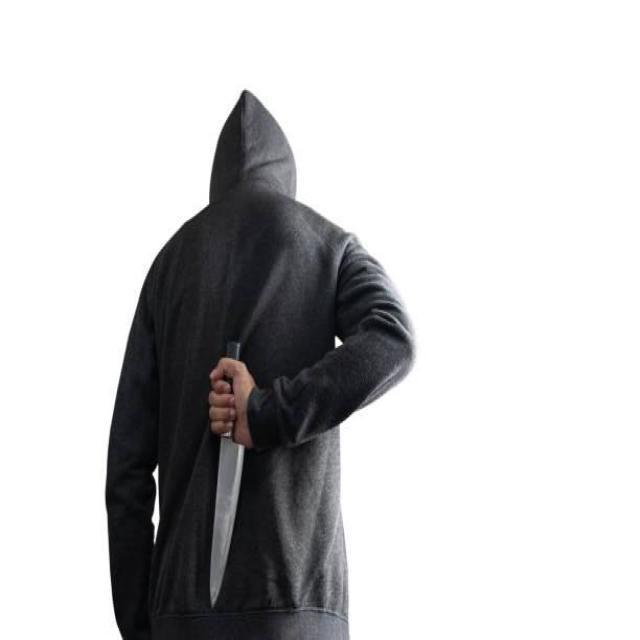faca: (200, 331, 268, 613)
